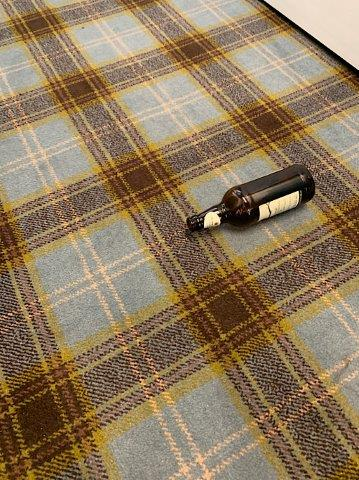botolkaca: (188, 165, 316, 231)
